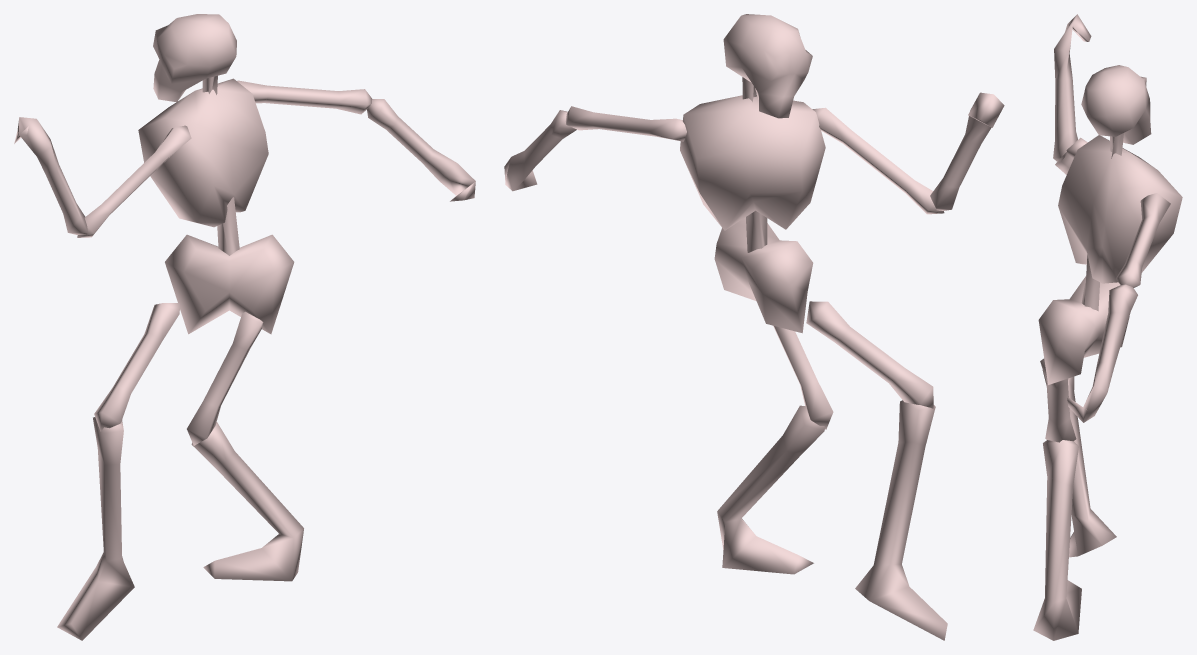
3 renders of one model, left to right at view 1: azimuth 30°, elevation 25°; view 2: azimuth 150°, elevation 25°; view 3: azimuth 270°, elevation 25°, orthographic. The views are drawn at different scales.
Parts seen in each view (by area): view 1: Object43; view 2: Object43; view 3: Object43.
Boxes of the visible parts, bbox=[...] form: Object43: bbox=[14, 14, 475, 640]; Object43: bbox=[504, 14, 1004, 640]; Object43: bbox=[1033, 14, 1182, 640].
Bounding box in the file's own units: 15096 × 17614 × 4304.
